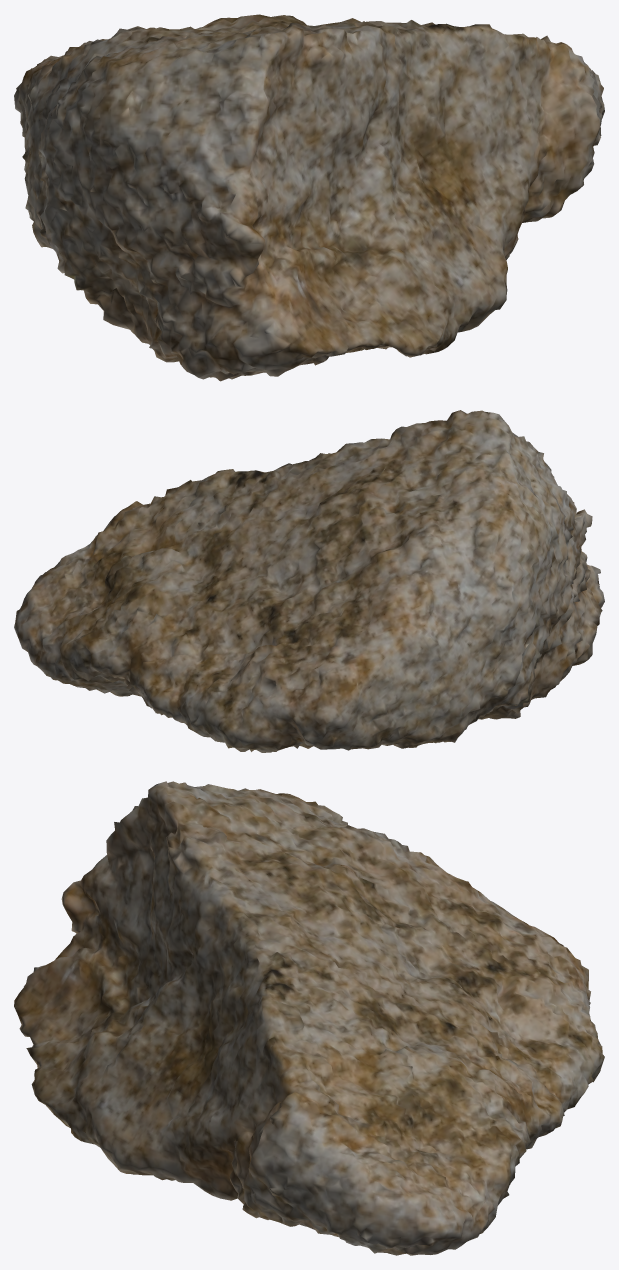
File: stone_c.gltf
The picture shows the model from 3 angles, top to bottom: view 1: azimuth 30°, elevation 25°; view 2: azimuth 150°, elevation 25°; view 3: azimuth 270°, elevation 25°; orthographic projection. The views are drawn at different scales.
Parts seen in each view (by area): view 1: namaqualand_stones_01_c; view 2: namaqualand_stones_01_c; view 3: namaqualand_stones_01_c.
Part boxes in pixels (box(x1,y1,x2,y2)): namaqualand_stones_01_c: box(14, 14, 604, 381); namaqualand_stones_01_c: box(14, 410, 604, 752); namaqualand_stones_01_c: box(14, 781, 604, 1255).
Bounding box in the file's own units: 0.1038 × 0.0572 × 0.0979.
Materials: 1 (1 with a texture image).
